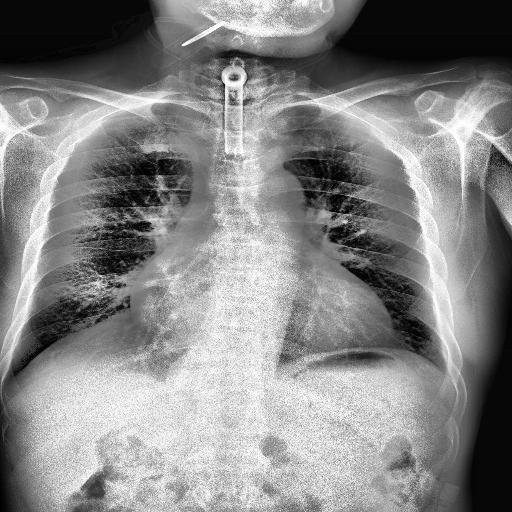0- Aortic enlargement: (248, 166, 306, 237), (240, 170, 307, 228)
3- Cardiomegaly: (132, 262, 392, 342), (128, 270, 393, 348), (128, 274, 390, 350)
